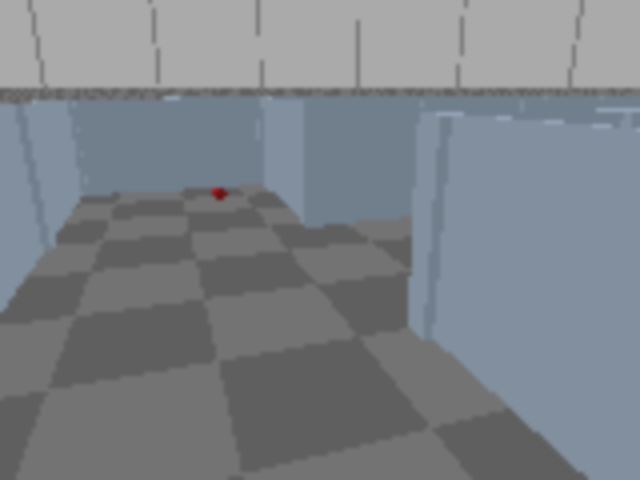puck: (209, 185, 229, 202)
